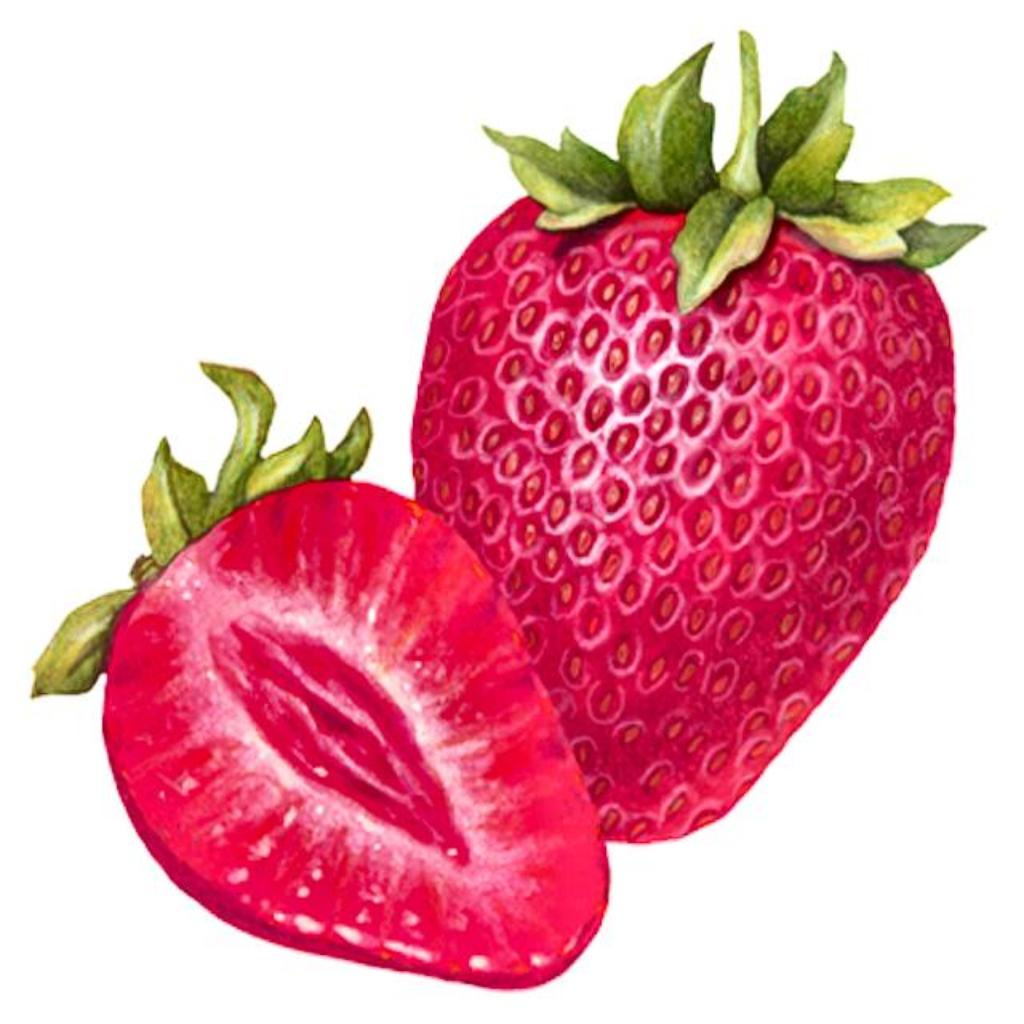strawberry: (412, 34, 980, 842), (34, 364, 608, 988)
